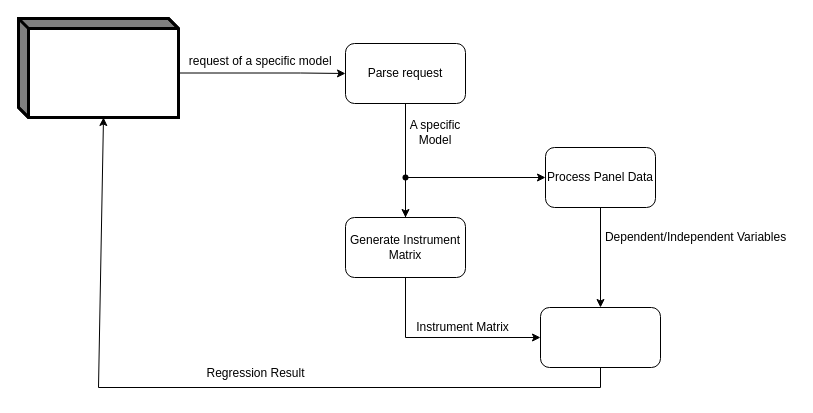
Image size: 813x413. Some labels were removed from this diagram. The shapes that lost their labels are listed below. From the top down, each one's centre as x and y in pixels, then its label:
(x=98, y=67): User
(x=600, y=337): GMM
